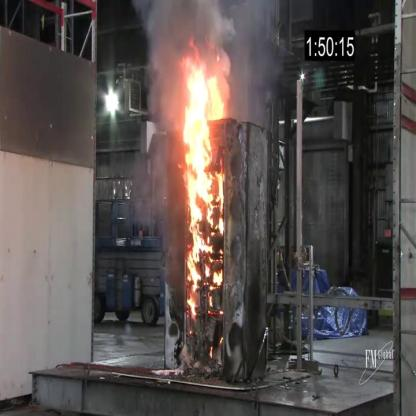fire: (178, 40, 227, 322)
